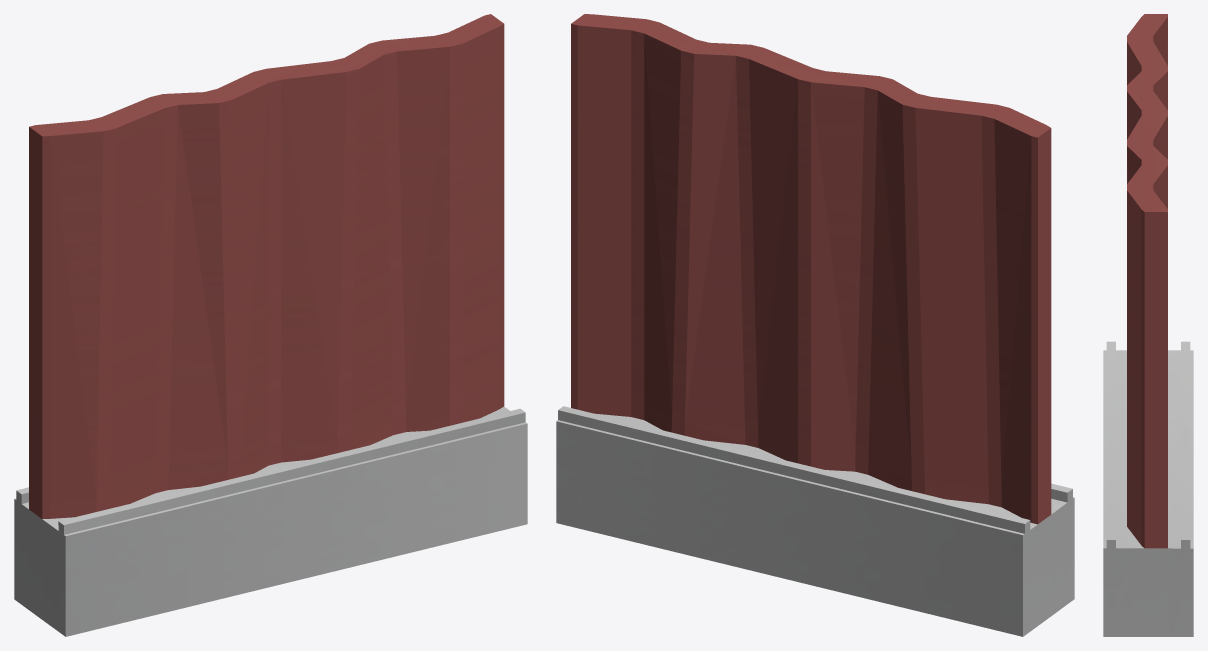
The model's file is wall_concrete_metal.dae.
3 views of the same model, side by side, from view 1: azimuth 30°, elevation 25°; view 2: azimuth 150°, elevation 25°; view 3: azimuth 270°, elevation 25° (orthographic). The views are drawn at different scales.
Visible parts, largest first — view 1: wall_concrete_metal; view 2: wall_concrete_metal; view 3: wall_concrete_metal.
Part boxes in pixels (box(x1,y1,x2,y2)): wall_concrete_metal: box(14, 14, 527, 636); wall_concrete_metal: box(556, 14, 1074, 636); wall_concrete_metal: box(1103, 14, 1193, 636).
Size of the model in its own units: 2 by 0.3844 by 2.
